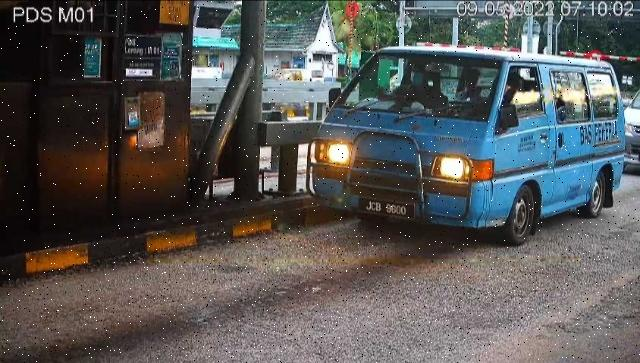License_Plate: (358, 197, 418, 221)
van: (307, 47, 625, 247)
